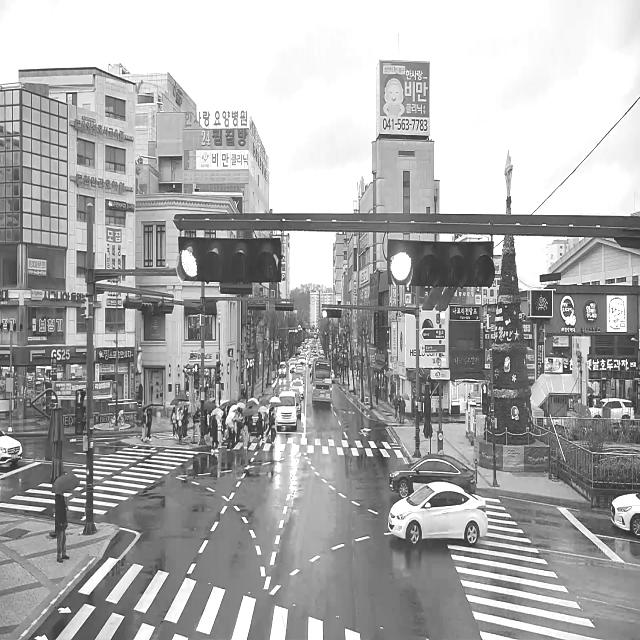Bus: (312, 358, 332, 402)
Car: (388, 482, 488, 544), (389, 449, 477, 498), (610, 492, 640, 536), (588, 399, 635, 420), (0, 430, 23, 464), (277, 392, 299, 426), (289, 387, 303, 416), (292, 378, 304, 398), (263, 387, 277, 402), (279, 362, 287, 376), (292, 374, 301, 381), (290, 362, 296, 372), (298, 356, 305, 364), (296, 372, 304, 379), (310, 366, 313, 378), (309, 359, 312, 366), (332, 370, 334, 380)
